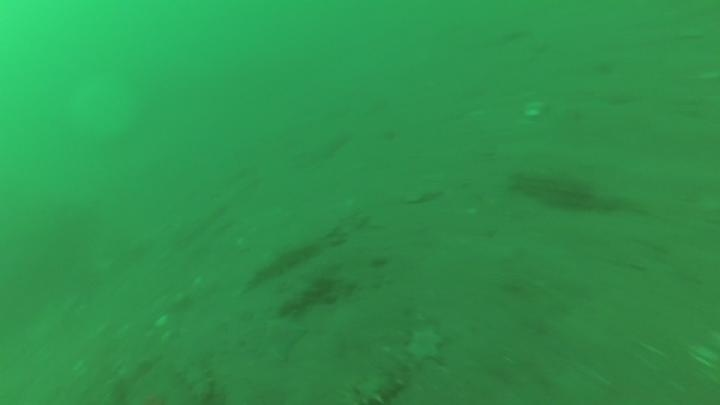holothurian: (242, 237, 322, 293), (274, 271, 343, 321), (342, 362, 411, 405)
starfish: (251, 315, 309, 364), (403, 322, 449, 368)
